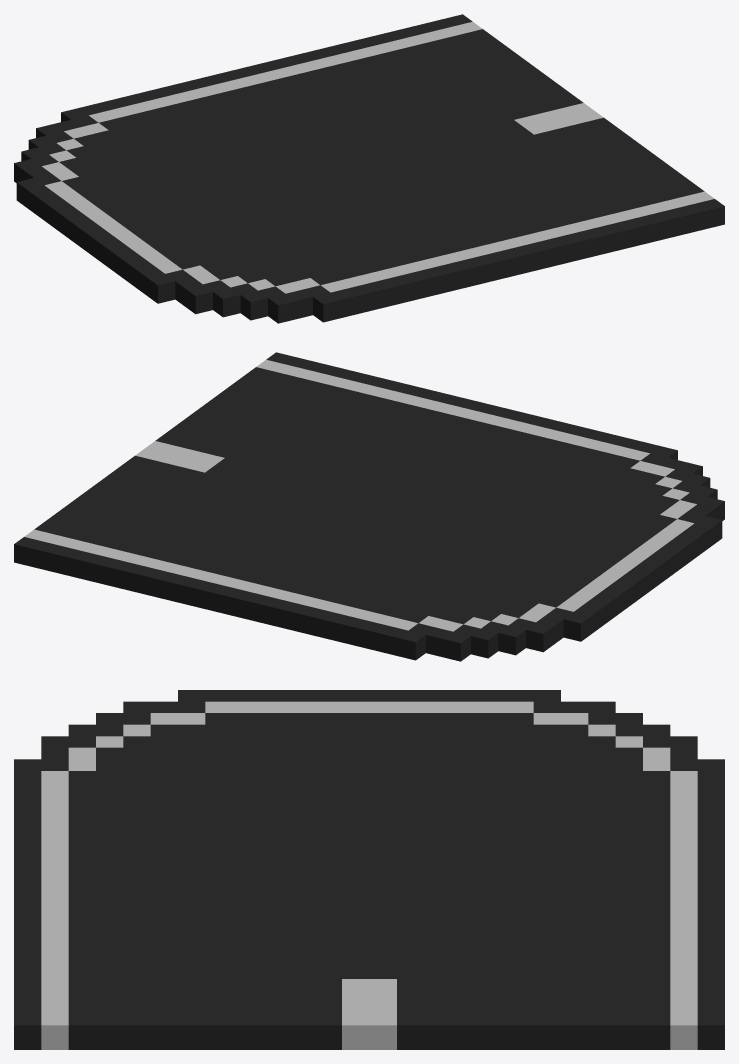
File: road-rounded-dead-end-1.gltf
3 renders of one model, top to bottom at view 1: azimuth 30°, elevation 25°; view 2: azimuth 150°, elevation 25°; view 3: azimuth 270°, elevation 25°, orthographic. The views are drawn at different scales.
Visible parts, largest first — view 1: road-rounded-dead-end-1; view 2: road-rounded-dead-end-1; view 3: road-rounded-dead-end-1.
Boxes of the visible parts, x1,y1,x2,y2 form: road-rounded-dead-end-1: (14, 14, 724, 323); road-rounded-dead-end-1: (14, 352, 724, 661); road-rounded-dead-end-1: (14, 690, 724, 1049).
Size of the model in its own units: 2.9 by 0.1 by 2.6.
1 material, 1 textured.
